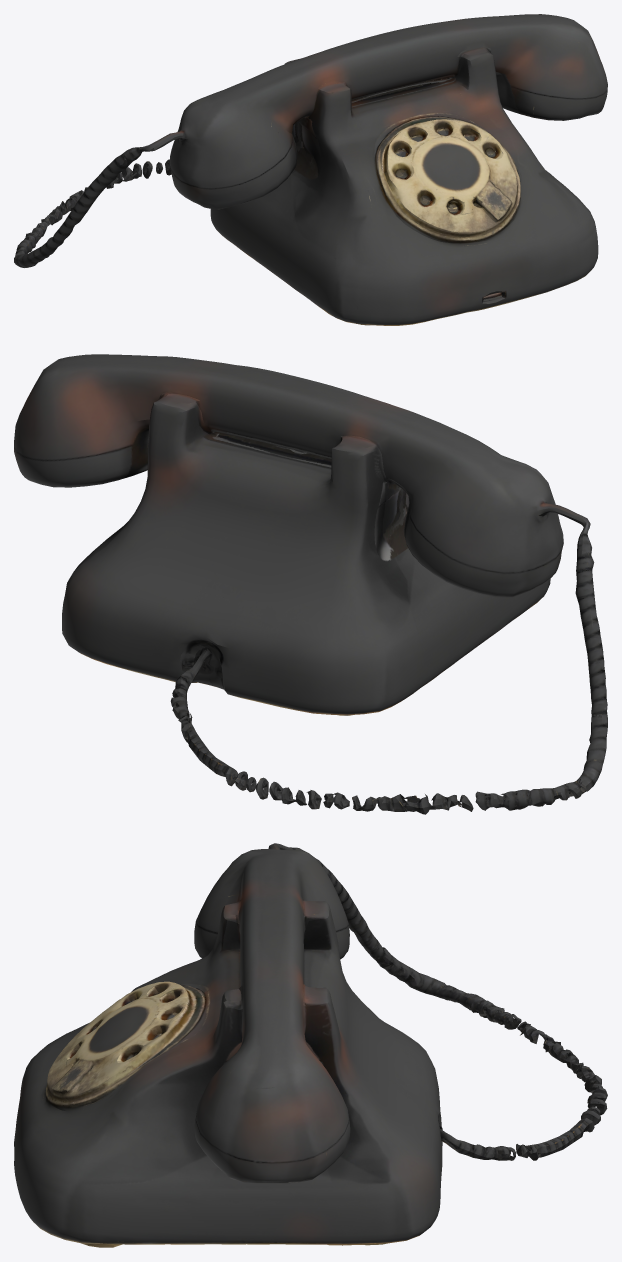
The model's file is retro_connection.fbx.
3 renders of one model, top to bottom at view 1: azimuth 30°, elevation 25°; view 2: azimuth 150°, elevation 25°; view 3: azimuth 270°, elevation 25°, orthographic. The views are drawn at different scales.
Parts seen in each view (by area): view 1: retro_connection; view 2: retro_connection; view 3: retro_connection.
Part boxes in pixels (bbox=[...]): retro_connection: bbox=[14, 14, 607, 325]; retro_connection: bbox=[14, 354, 607, 814]; retro_connection: bbox=[14, 843, 607, 1247].
Size of the model in its own units: 0.5141 by 0.198 by 0.4122.
Materials: 1 (1 with a texture image).
